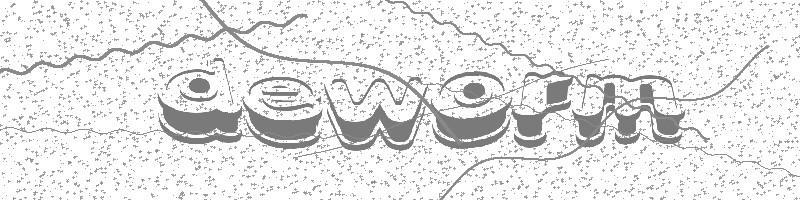d: (159, 59, 243, 144)
e: (245, 77, 322, 149)
m: (574, 73, 684, 148)
o: (433, 72, 509, 149)
r: (512, 72, 574, 147)
w: (324, 78, 426, 150)
